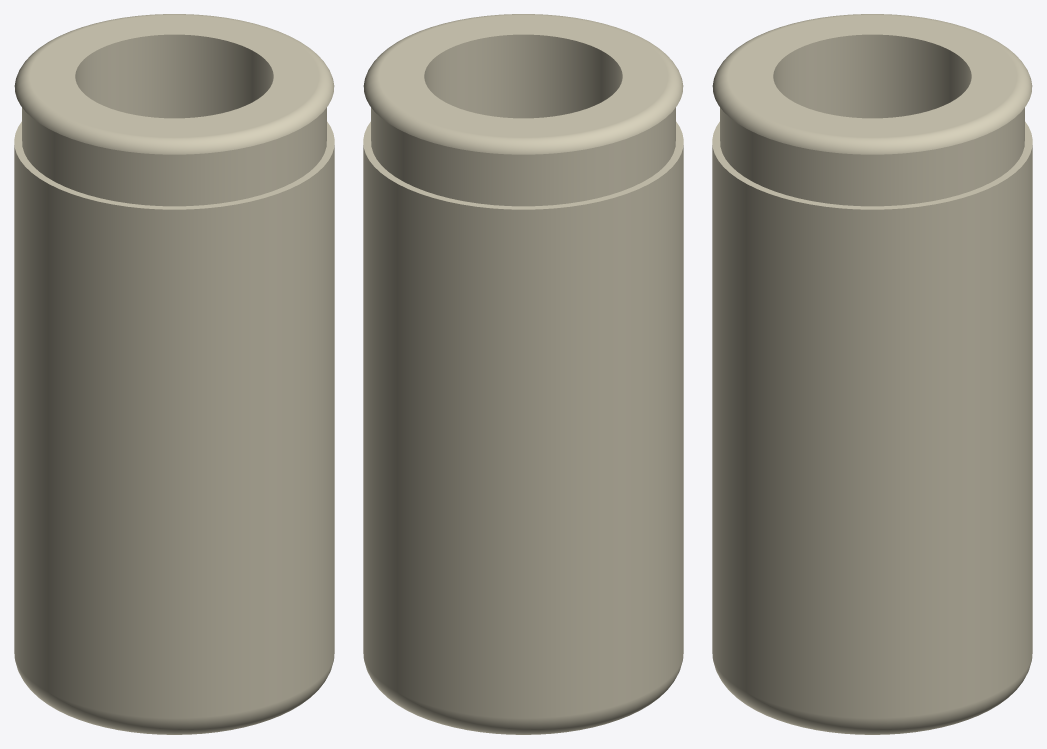
File: step_01.glb
3 views of the same model, side by side, from view 1: azimuth 30°, elevation 25°; view 2: azimuth 150°, elevation 25°; view 3: azimuth 270°, elevation 25° (orthographic).
Parts seen in each view (by area): view 1: part__float foam fill; view 2: part__float foam fill; view 3: part__float foam fill.
Boxes of the visible parts, x1,y1,x2,y2 form: part__float foam fill: (14, 14, 334, 734); part__float foam fill: (363, 14, 683, 734); part__float foam fill: (712, 14, 1032, 734).
Size of the model in its own units: 488 by 1008 by 488.
